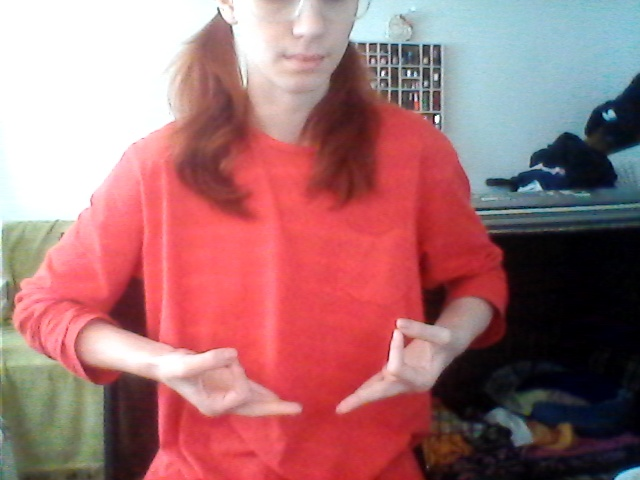preco: (160, 295, 465, 435)
